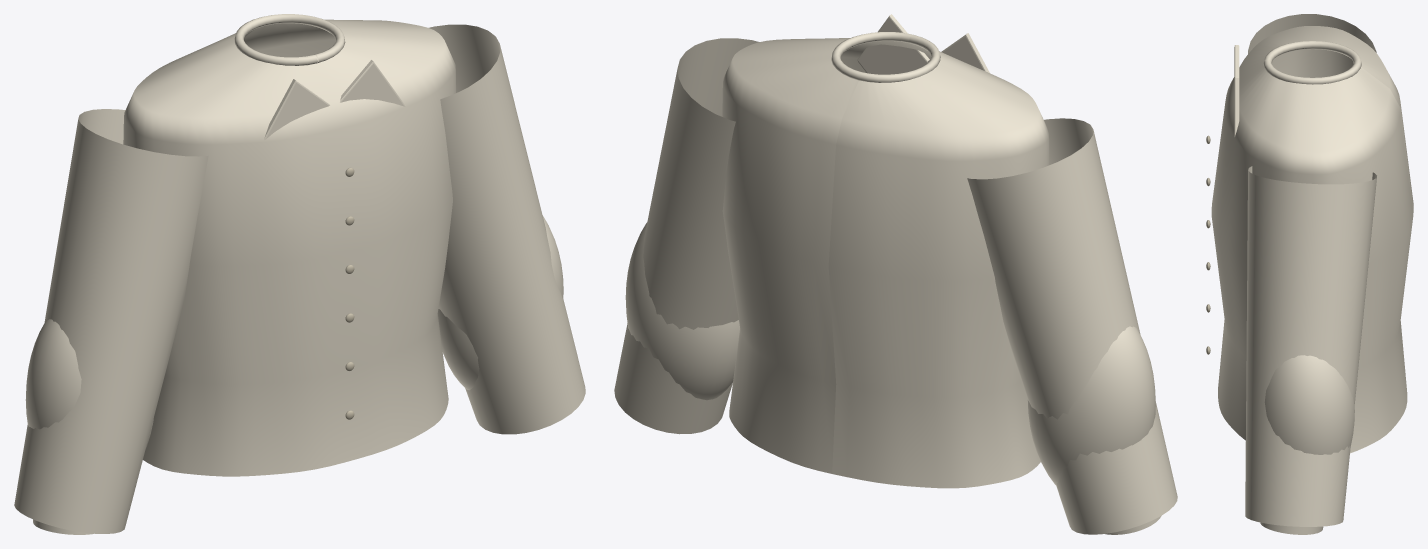
The model's file is chemise-aube-homme.glb.
3 views of the same model, side by side, from view 1: azimuth 30°, elevation 25°; view 2: azimuth 150°, elevation 25°; view 3: azimuth 270°, elevation 25° (orthographic). The views are drawn at different scales.
Parts seen in each view (by area): view 1: edit-08, long-sleeve (×2); view 2: edit-08, long-sleeve (×2); view 3: edit-08, long-sleeve (×2).
Part boxes in pixels (box(x1,y1,x2,y2)): edit-08: box(25, 14, 563, 534); long-sleeve (×2): box(14, 24, 585, 533); edit-08: box(625, 14, 1161, 534); long-sleeve (×2): box(614, 38, 1177, 534); edit-08: box(1206, 26, 1413, 534); long-sleeve (×2): box(1245, 14, 1376, 526).
Bounding box in the file's own units: 0.7909 × 0.5848 × 0.2945.
